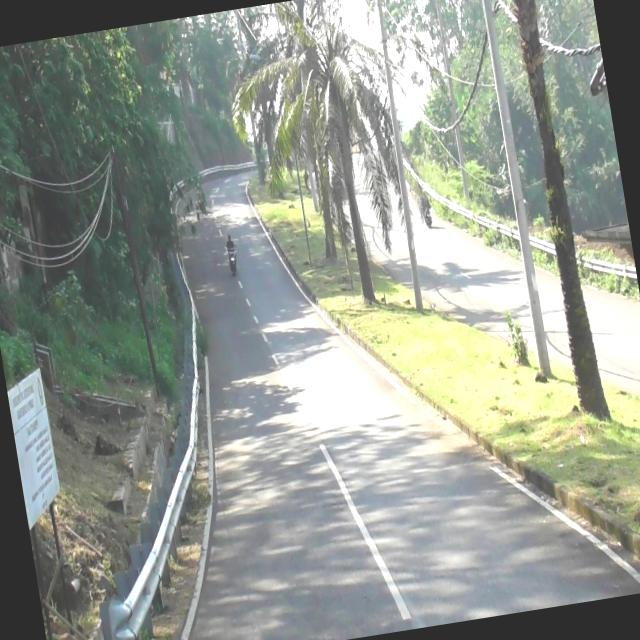motorcycle: (226, 247, 240, 276)
person: (224, 234, 237, 253)
rider_region: (224, 231, 239, 274)
